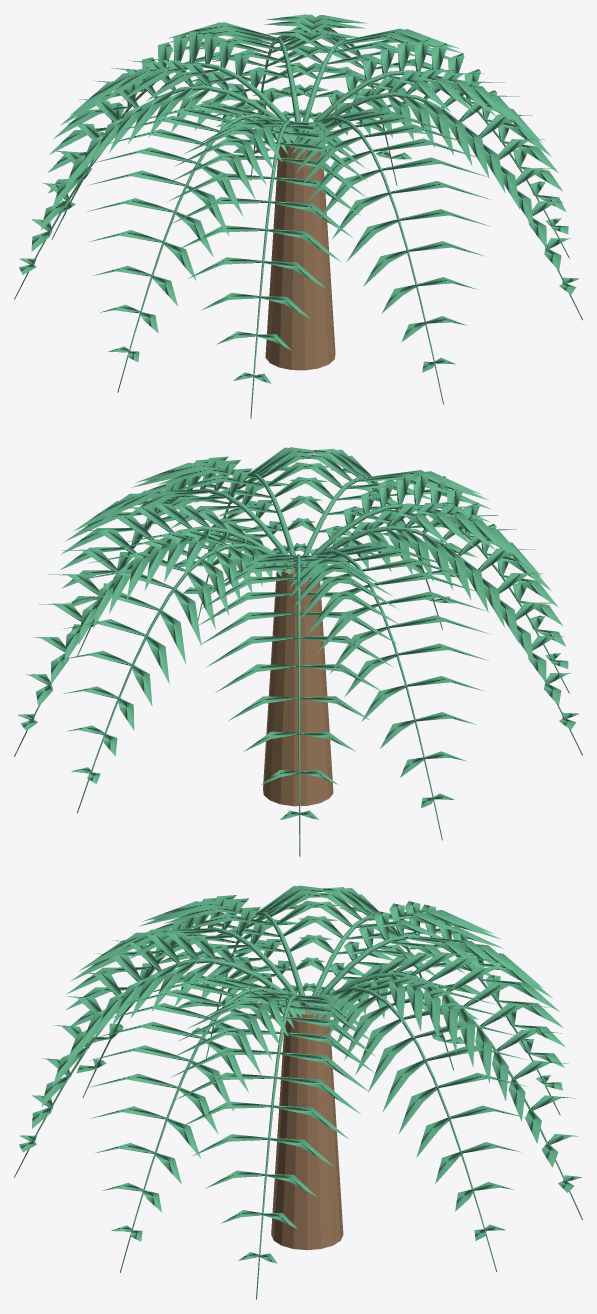
File: tree_fern_tropical_island_and_palm_trees_6827.glb
The picture shows the model from 3 angles, top to bottom: view 1: azimuth 30°, elevation 25°; view 2: azimuth 150°, elevation 25°; view 3: azimuth 270°, elevation 25°; orthographic projection. The views are drawn at different scales.
Visible parts, largest first — view 1: tree-fern; view 2: tree-fern; view 3: tree-fern.
Boxes of the visible parts, <box> form: tree-fern: <box>14,14,582,418</box>; tree-fern: <box>14,447,582,856</box>; tree-fern: <box>14,885,582,1299</box>.
Size of the model in its own units: 3.12 by 1.72 by 3.15.
